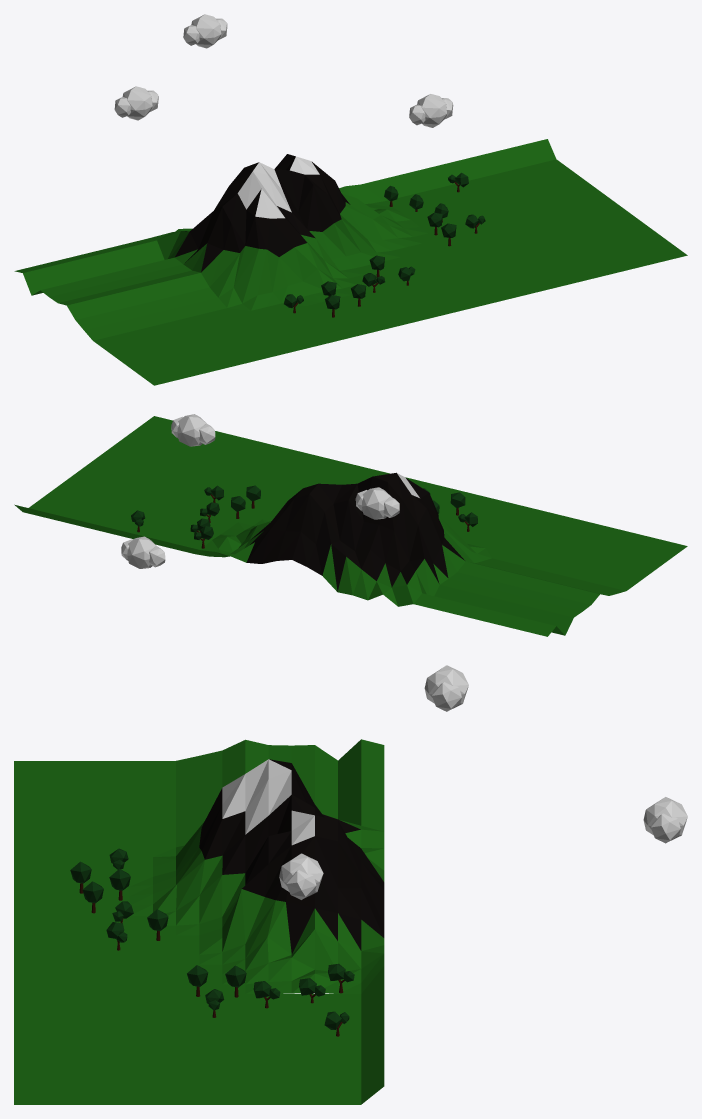
File: lowpoly.obj
The picture shows the model from 3 angles, top to bottom: view 1: azimuth 30°, elevation 25°; view 2: azimuth 150°, elevation 25°; view 3: azimuth 270°, elevation 25°; orthographic projection. The views are drawn at different scales.
Parts seen in each view (by area): view 1: Plane, Icosphere.009_Icosphere.013, Icosphere.010_Icosphere.014, Icosphere_Icosphere.003; view 2: Plane, Icosphere.010_Icosphere.014, Icosphere.009_Icosphere.013, Icosphere_Icosphere.003; view 3: Plane, Icosphere_Icosphere.003, Icosphere.010_Icosphere.014, Icosphere.009_Icosphere.013.
Part boxes in pixels (x1,y1,x2,y2): Plane: [14, 139, 687, 385]; Icosphere.009_Icosphere.013: [183, 14, 227, 48]; Icosphere.010_Icosphere.014: [114, 86, 158, 120]; Icosphere_Icosphere.003: [409, 94, 453, 127]; Plane: [14, 416, 687, 636]; Icosphere.010_Icosphere.014: [355, 487, 399, 519]; Icosphere.009_Icosphere.013: [121, 536, 165, 568]; Icosphere_Icosphere.003: [171, 414, 215, 446]; Plane: [14, 739, 384, 1104]; Icosphere_Icosphere.003: [279, 853, 323, 899]; Icosphere.010_Icosphere.014: [424, 665, 468, 711]; Icosphere.009_Icosphere.013: [643, 797, 687, 843].
Size of the model in its own units: 36.54 by 9.48 by 30.26.
